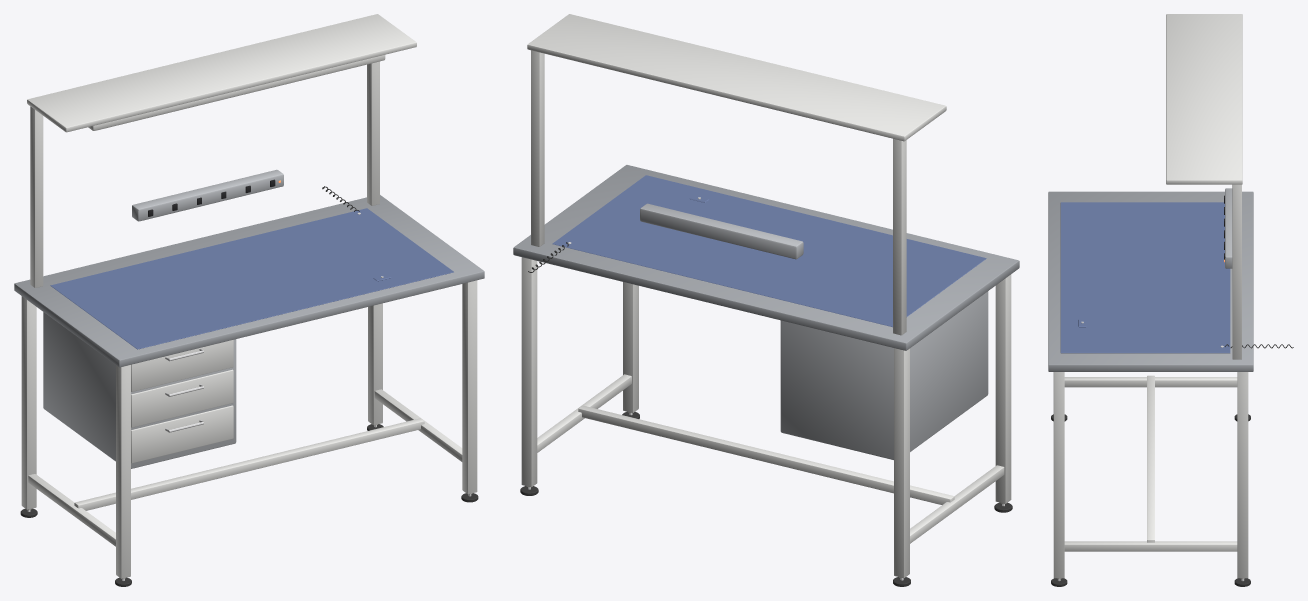
File: esd_workbench.glb
3 views of the same model, side by side, from view 1: azimuth 30°, elevation 25°; view 2: azimuth 150°, elevation 25°; view 3: azimuth 270°, elevation 25° (orthographic). The views are drawn at different scales.
Visible parts, largest first — view 1: esd_workbench; view 2: esd_workbench; view 3: esd_workbench.
Part boxes in pixels (x1,y1,x2,y2): esd_workbench: (14, 14, 484, 586); esd_workbench: (513, 14, 1019, 586); esd_workbench: (1048, 14, 1293, 586).
Bounding box in the file's own units: 1.5 × 1.63 × 0.8961.
